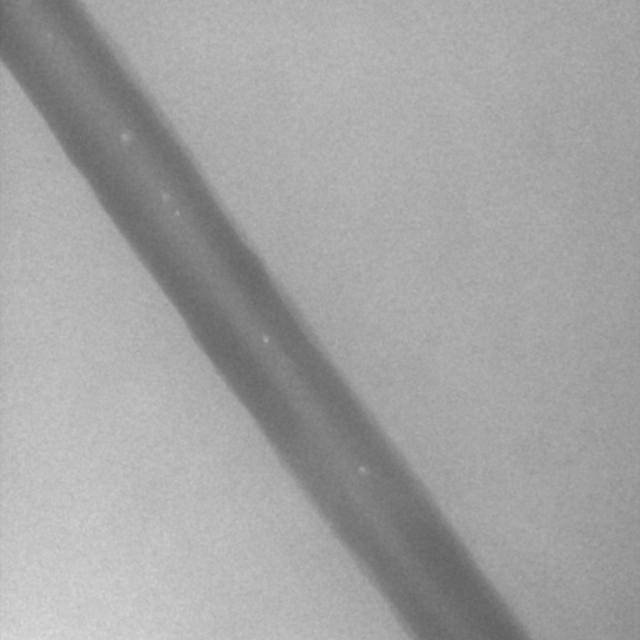air hole: (119, 130, 130, 145), (358, 462, 369, 475), (260, 333, 271, 345)
